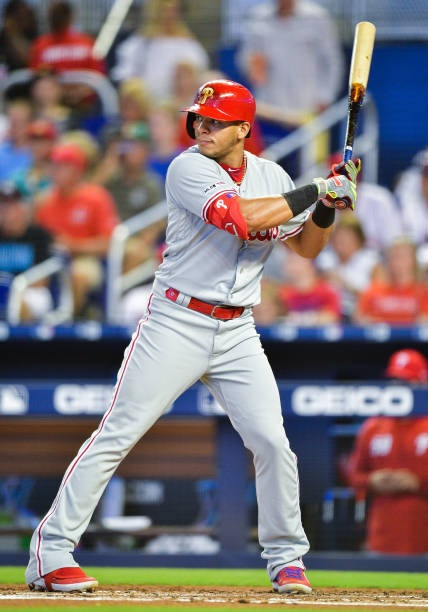bita: (314, 18, 374, 195)
